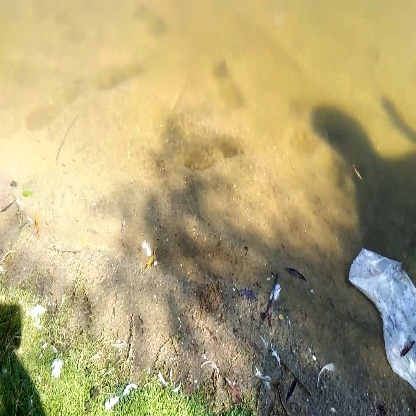plastic-bag: (345, 241, 416, 386)
